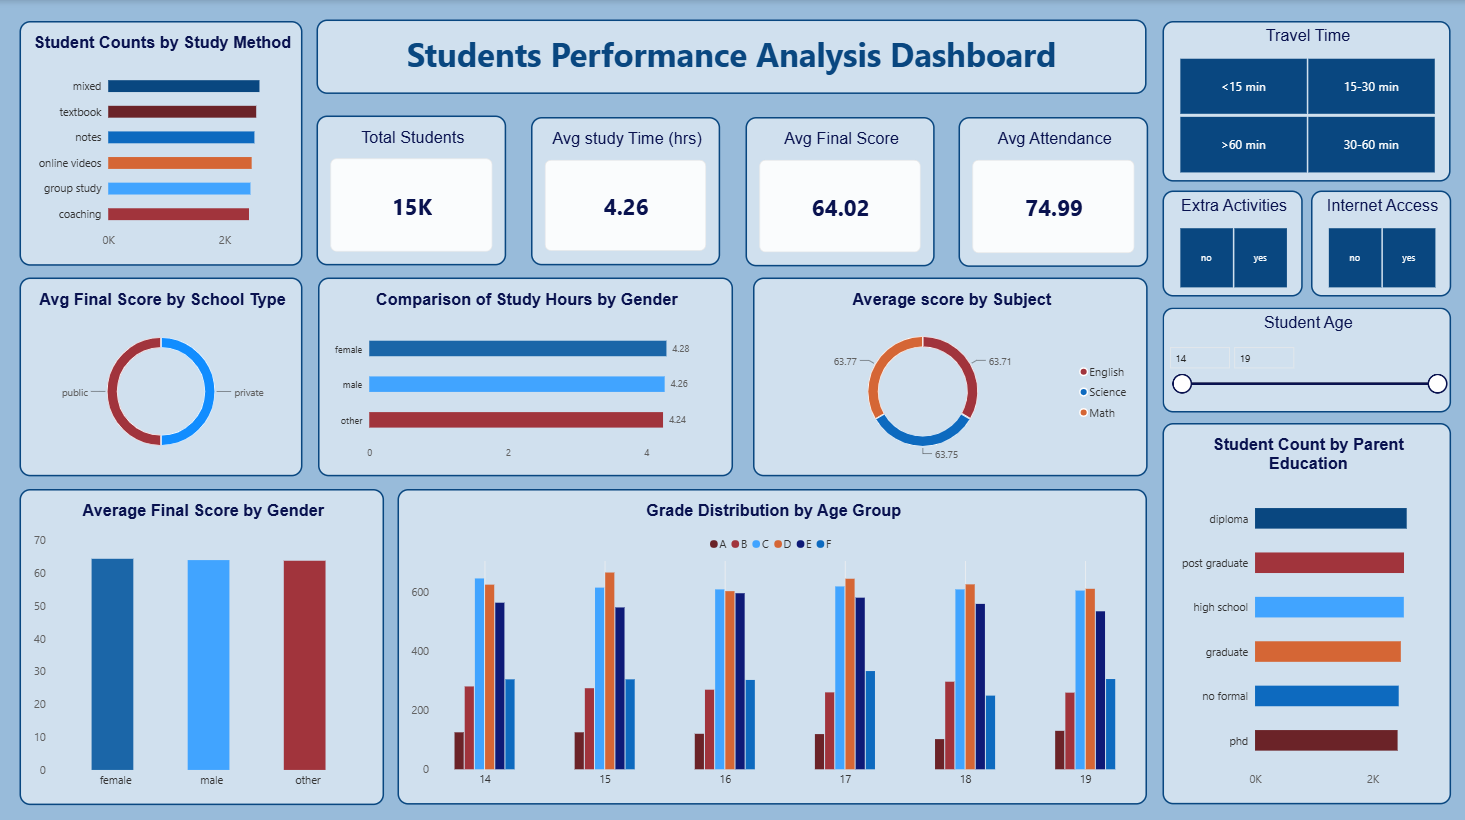

This screenshot's page, from the dashboard's own definition file:
{"tool":"powerbi","page":{"name":"Students_Performance_Analysis_Dashboard","canvas":[1920,1080],"ordinal":0},"visuals":[{"type":"textbox","box":[414.7,26.5,1085.3,97.1],"z":0},{"type":"cardVisual","title":"Total Students","fields":{"Data":["CountNonNull(students.student_id)"]},"box":[414,152,248,196],"z":1000},{"type":"cardVisual","title":"Avg Final Score","fields":{"Data":["Avg(students.overall_score)"]},"box":[975,152.5,247.5,195],"z":2000},{"type":"cardVisual","title":"Avg Attendance","fields":{"Data":["Avg(students.attendance_percentage)"]},"box":[1252.5,152.5,248,196],"z":3000},{"type":"cardVisual","title":"Avg study Time (hrs)","fields":{"Data":["Avg(students.study_hours)"]},"box":[695,153.8,247.5,193.8],"z":4000},{"type":"clusteredColumnChart","title":"Average Final Score by Gender","fields":{"Category":["students.gender"],"Y":["Avg(students.overall_score)"]},"box":[25,640,476.7,413.3],"z":5000},{"type":"donutChart","title":"Avg Final Score by School Type","fields":{"Category":["students.school_type"],"Y":["Avg(students.overall_score)"]},"box":[25.7,362.9,370,260],"z":6000},{"type":"clusteredColumnChart","title":"Grade Distribution by Age Group","fields":{"Category":["students.age"],"Series":["students.final_grade"],"Y":["CountNonNull(students.student_id)"]},"box":[520,640,980,412.5],"z":7000},{"type":"barChart","title":"Student Counts by Study Method","fields":{"Category":["students.study_method"],"Y":["CountNonNull(students.student_id)"]},"box":[25.7,27.1,370,320],"z":8000},{"type":"clusteredBarChart","title":"Comparison of Study Hours by Gender ","fields":{"Category":["students.gender"],"Y":["Avg(students.study_hours)"]},"box":[415,362.5,542.5,260],"z":9000},{"type":"donutChart","title":"Average score by Subject","fields":{"Y":["Avg(students.english_score)","Avg(students.science_score)","Avg(students.math_score)"]},"box":[984,362,516,260],"z":10000},{"type":"slicer","title":"Travel Time","fields":{"Values":["students.travel_time"]},"box":[1520,26.7,376.7,210],"z":11000},{"type":"slicer","title":"Extra Activities","fields":{"Values":["students.extra_activities"]},"box":[1520,250,183.3,138.3],"z":12000},{"type":"slicer","title":"Internet Access","fields":{"Values":["students.internet_access"]},"box":[1713.3,250,183.3,138.3],"z":13000},{"type":"clusteredBarChart","title":"Student Count by Parent Education","fields":{"Category":["students.parent_education"],"Y":["CountNonNull(students.student_id)"]},"box":[1520,553.8,377.5,498.8],"z":14000},{"type":"slicer","title":"Student Age","fields":{"Values":["students.age"]},"box":[1520,402.5,377.5,137.5],"z":15000}]}

Visuals, with their boxes in screenshot pixels (x1, y1, x2, y2), scaled from the page's 1920x1080 canvas onto the 1465x820 screenshot:
textbox: {"left": 316, "top": 20, "right": 1145, "bottom": 94}
"Total Students" cardVisual: {"left": 316, "top": 115, "right": 505, "bottom": 264}
"Avg Final Score" cardVisual: {"left": 744, "top": 116, "right": 933, "bottom": 264}
"Avg Attendance" cardVisual: {"left": 956, "top": 116, "right": 1145, "bottom": 265}
"Avg study Time (hrs)" cardVisual: {"left": 530, "top": 117, "right": 719, "bottom": 264}
"Average Final Score by Gender" clusteredColumnChart: {"left": 19, "top": 486, "right": 383, "bottom": 800}
"Avg Final Score by School Type" donutChart: {"left": 20, "top": 276, "right": 302, "bottom": 473}
"Grade Distribution by Age Group" clusteredColumnChart: {"left": 397, "top": 486, "right": 1145, "bottom": 799}
"Student Counts by Study Method" barChart: {"left": 20, "top": 21, "right": 302, "bottom": 264}
"Comparison of Study Hours by Gender " clusteredBarChart: {"left": 317, "top": 275, "right": 731, "bottom": 473}
"Average score by Subject" donutChart: {"left": 751, "top": 275, "right": 1145, "bottom": 472}
"Travel Time" slicer: {"left": 1160, "top": 20, "right": 1447, "bottom": 180}
"Extra Activities" slicer: {"left": 1160, "top": 190, "right": 1300, "bottom": 295}
"Internet Access" slicer: {"left": 1307, "top": 190, "right": 1447, "bottom": 295}
"Student Count by Parent Education" clusteredBarChart: {"left": 1160, "top": 420, "right": 1448, "bottom": 799}
"Student Age" slicer: {"left": 1160, "top": 306, "right": 1448, "bottom": 410}
